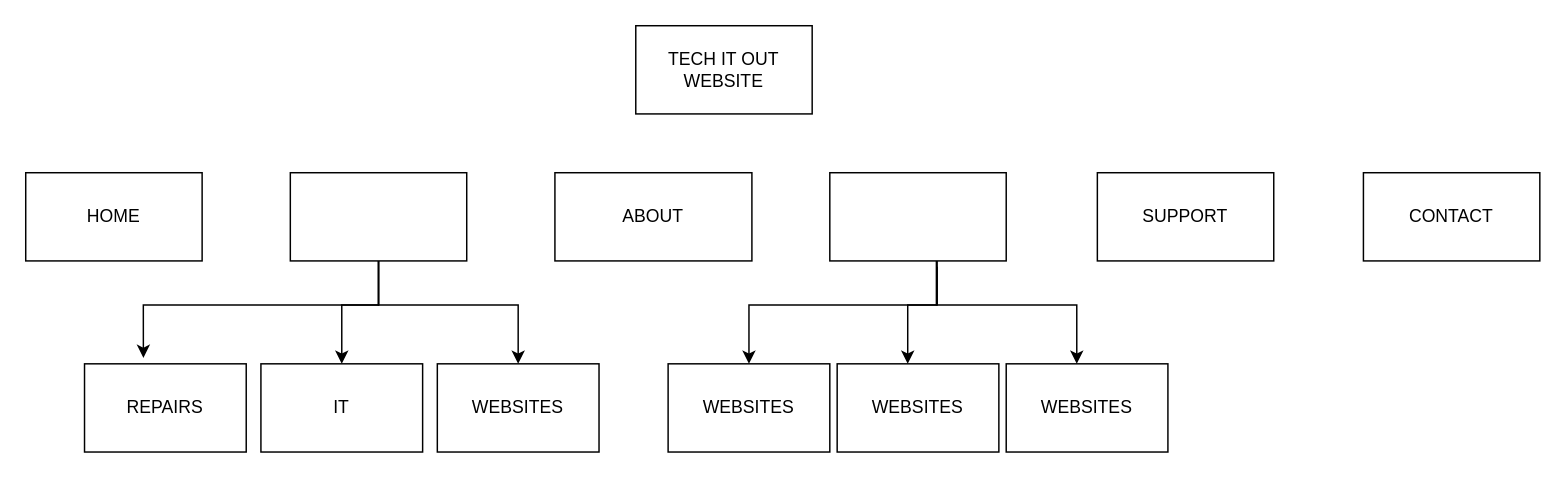
Image size: 1566x478. Some labels were removed from this diagram. The shapes that lost their labels are listed below. From the top down, each one's centre as x and y in pixels, then its label:
At (378,216): "SERVICES".
At (917,216): "EDUCATION".
